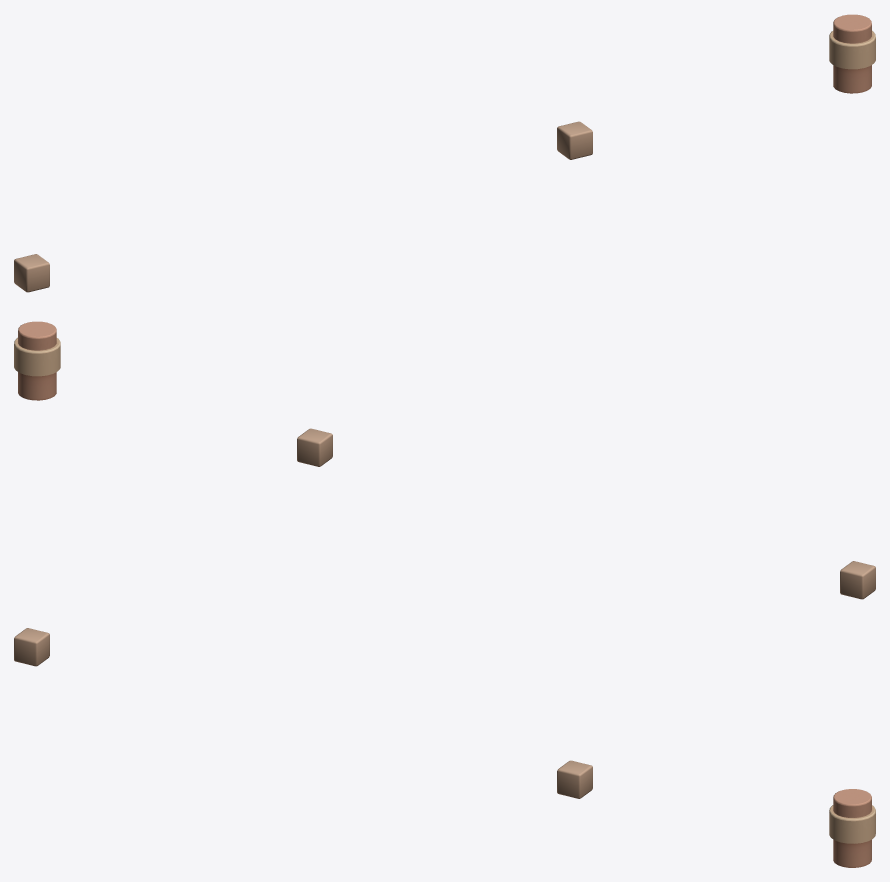
File: Props.fbx
3 renders of one model, top to bottom at view 1: azimuth 30°, elevation 25°; view 2: azimuth 150°, elevation 25°; view 3: azimuth 330°, elevation 25°, orthographic.
Parts seen in each view (by area): view 1: Cylinder-2, Box1-6 (1), Box1-6; view 2: Cylinder-2, Box1-6 (1), Box1-6; view 3: Cylinder-2, Box1-6 (1), Box1-6.
Part boxes in pixels (box(x1,y1,x2,y2)): Cylinder-2: box(829, 14, 875, 93); Box1-6 (1): box(14, 254, 49, 292); Box1-6: box(557, 121, 592, 159); Cylinder-2: box(14, 321, 60, 400); Box1-6 (1): box(840, 561, 875, 599); Box1-6: box(297, 428, 332, 466); Cylinder-2: box(829, 789, 875, 867); Box1-6 (1): box(14, 628, 49, 666); Box1-6: box(557, 760, 592, 798).
Bounding box in the file's own units: 70.66 × 5 × 3.38.
